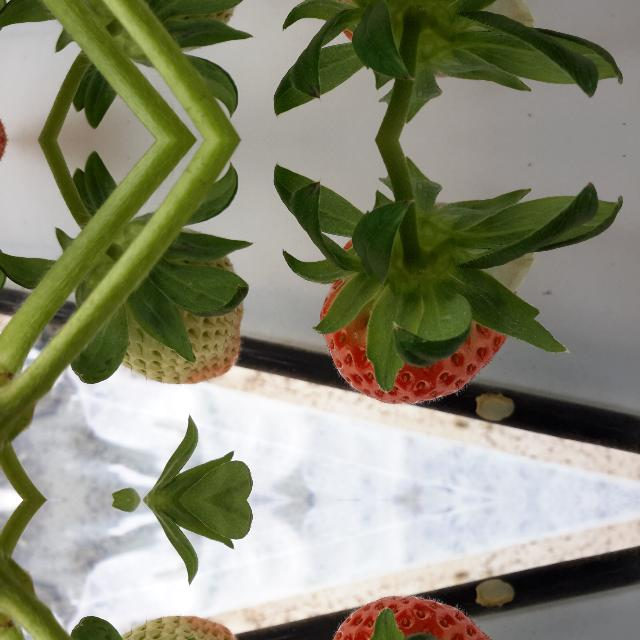Health_100: (318, 239, 516, 406), (318, 593, 515, 640), (318, 0, 515, 40)
Health_50: (121, 229, 241, 383), (121, 0, 241, 51)
